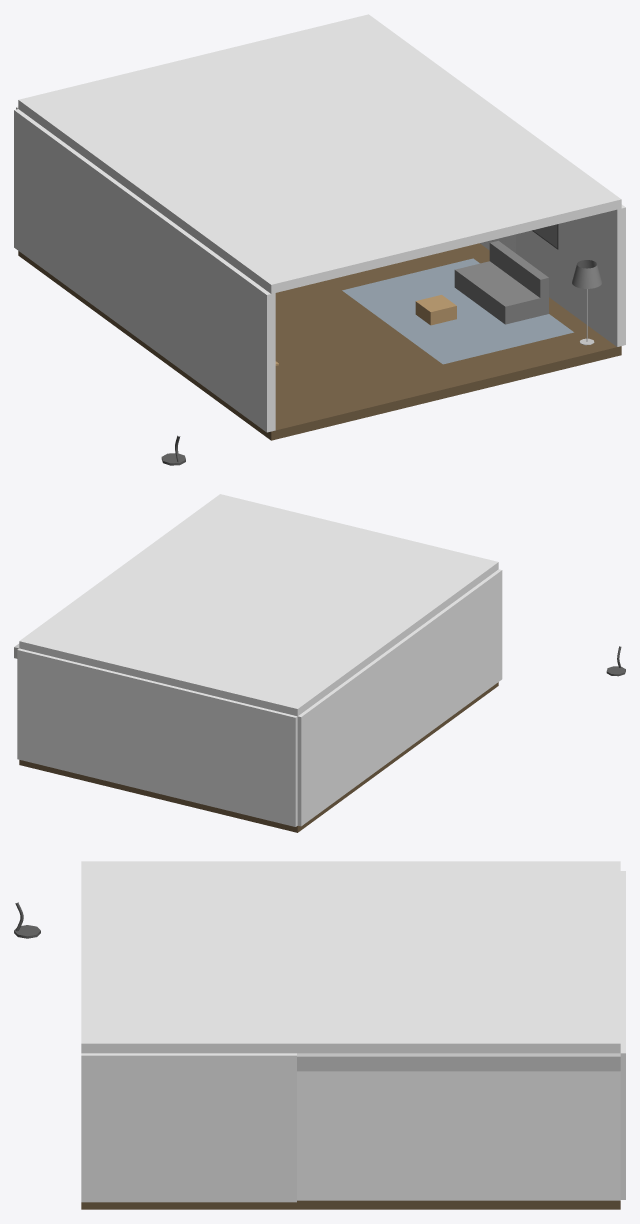
File: small-studio-apt-in-high-fidelity.gltf
3 renders of one model, top to bottom at view 1: azimuth 30°, elevation 25°; view 2: azimuth 150°, elevation 25°; view 3: azimuth 270°, elevation 25°, orthographic. The views are drawn at different scales.
Bounding box in the file's own units: 11.2 × 3.4 × 11.35.
